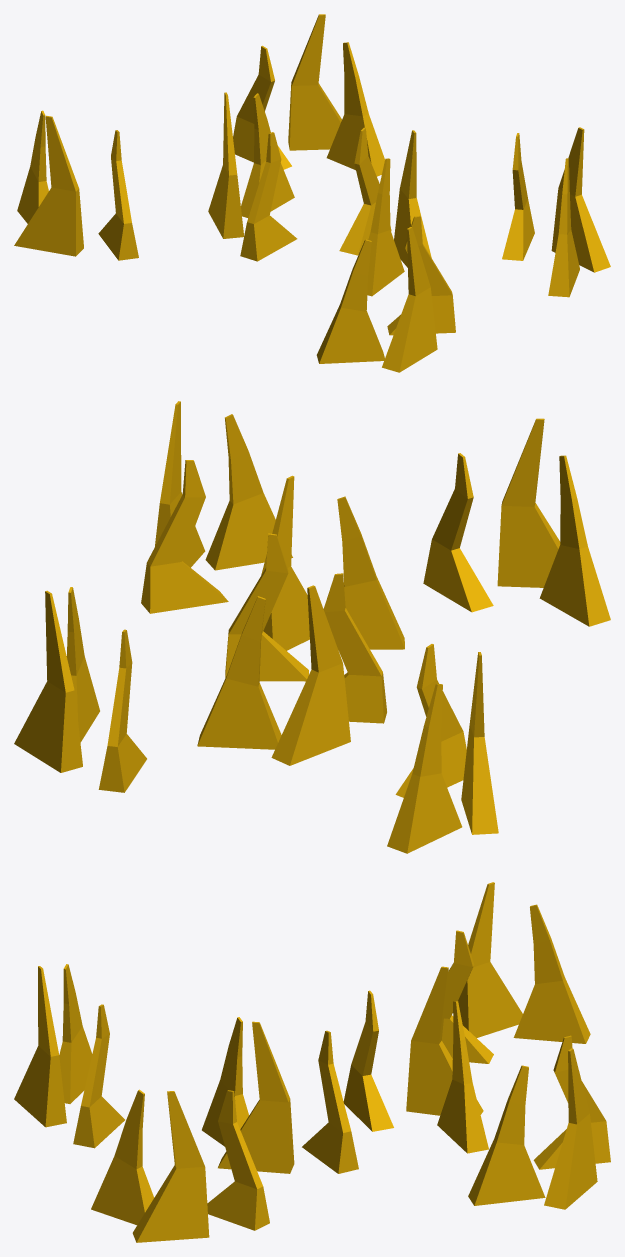
The model's file is Hierba.fbx.
3 renders of one model, top to bottom at view 1: azimuth 30°, elevation 25°; view 2: azimuth 150°, elevation 25°; view 3: azimuth 270°, elevation 25°, orthographic. The views are drawn at different scales.
Parts seen in each view (by area): view 1: Mesh; view 2: Mesh; view 3: Mesh.
Part boxes in pixels (left/top/right/bottom): Mesh: left=14, top=14, right=610, bottom=372; Mesh: left=14, top=401, right=610, bottom=853; Mesh: left=14, top=882, right=610, bottom=1242.
Bounding box in the file's own units: 120 × 35.16 × 132.
